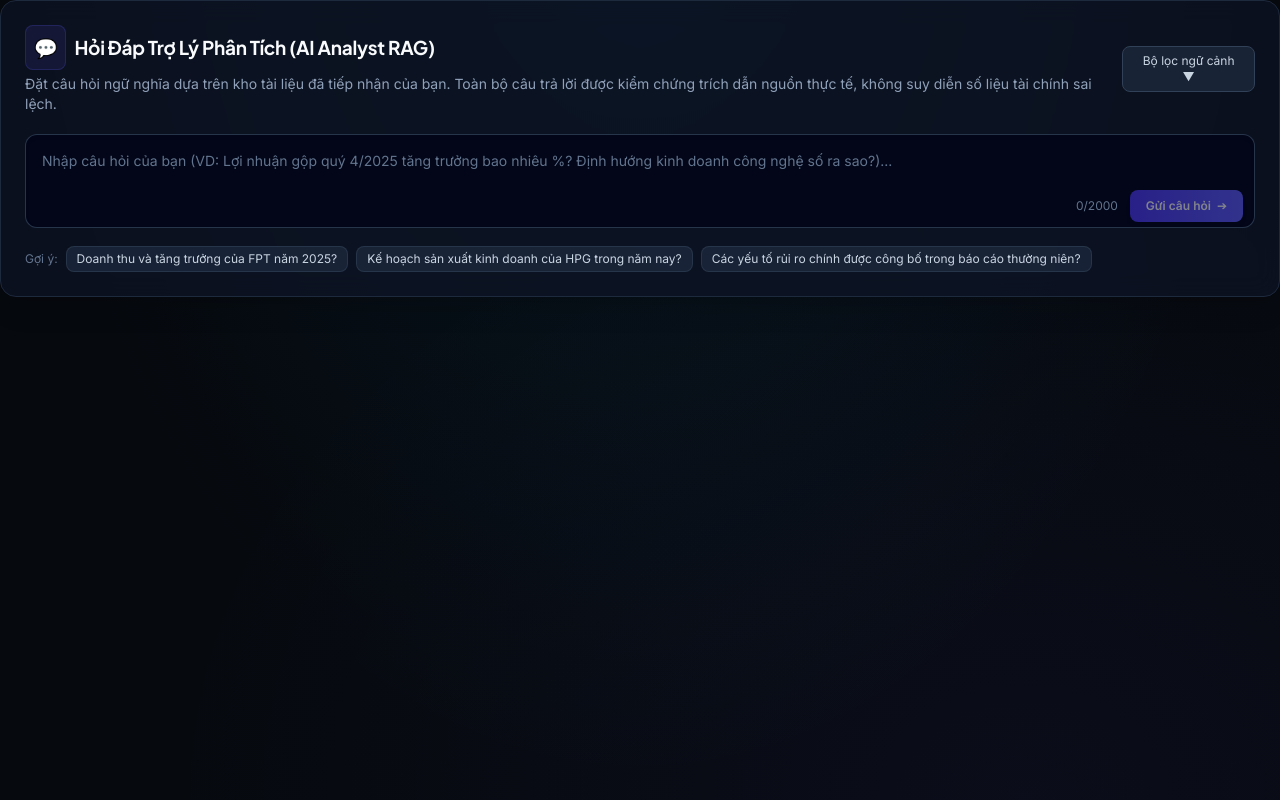
Test: AskPanel Component (User Story 2: P2) › renders error notice when streaming fails with network error
Replace the text in the text box with placeholder "Nhập câu hỏi của bạn" with "Kế hoạch kinh doanh?". click: (640, 181)
box: [25,134,1255,228]
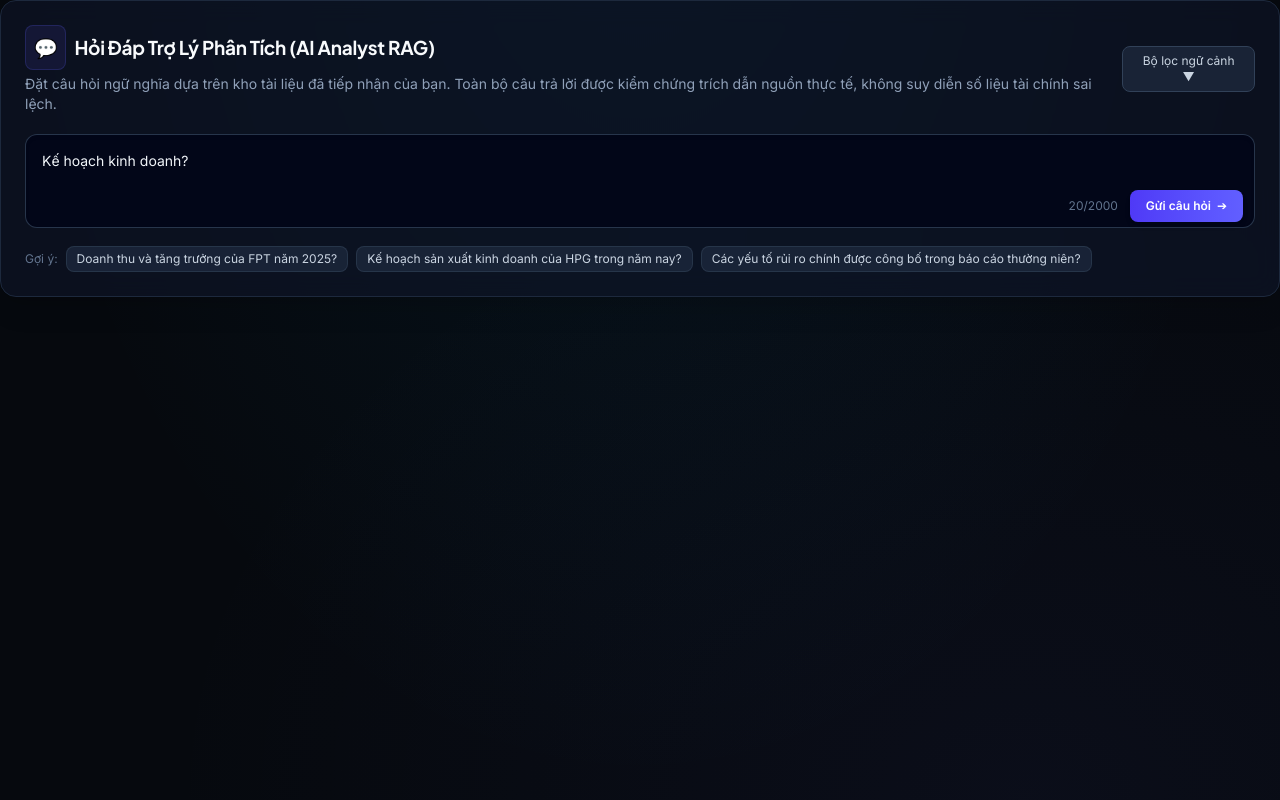
Click the text "Gửi câu hỏi". click: (1178, 206)
box: [1146,198,1211,214]
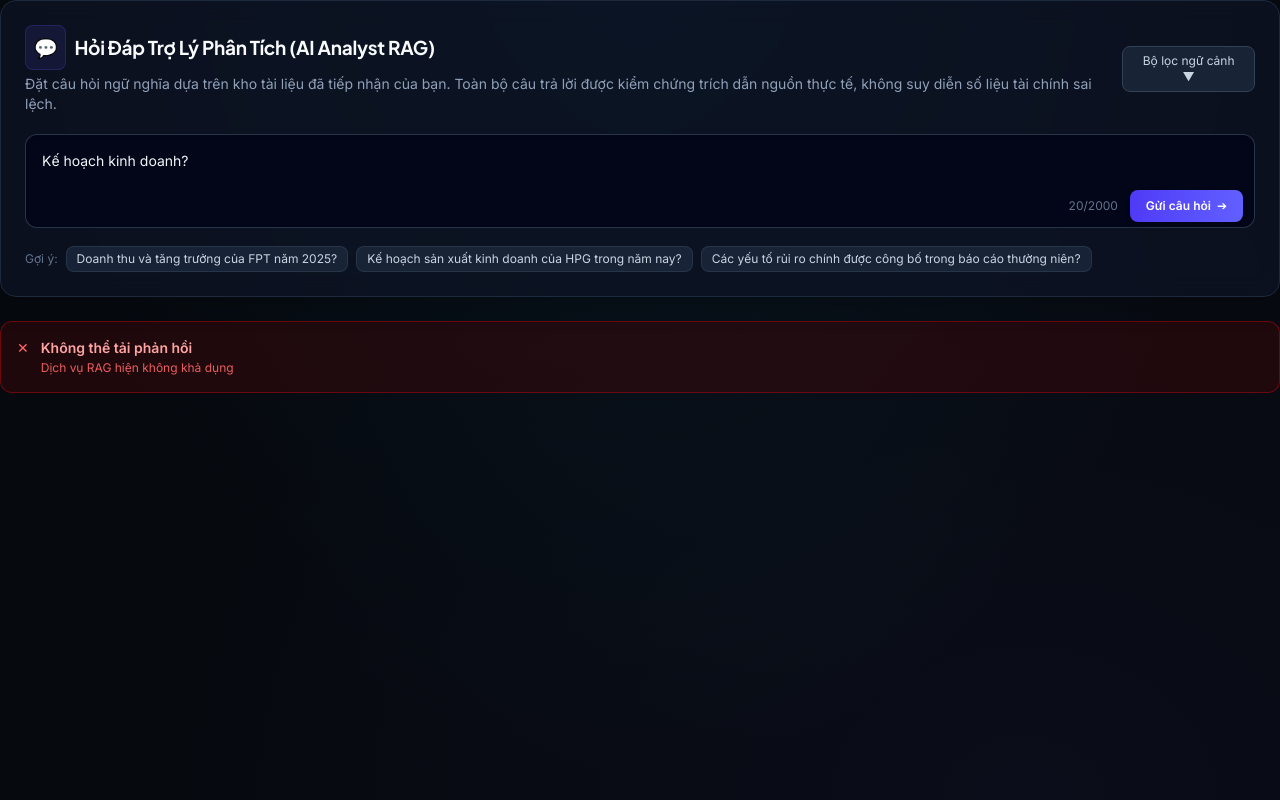
Expected: the text "Không thể tải phản hồi" is shown, [41,339,192,356]
Expected: the text "Dịch vụ RAG hiện không khả dụng" is shown, [41,360,234,376]
